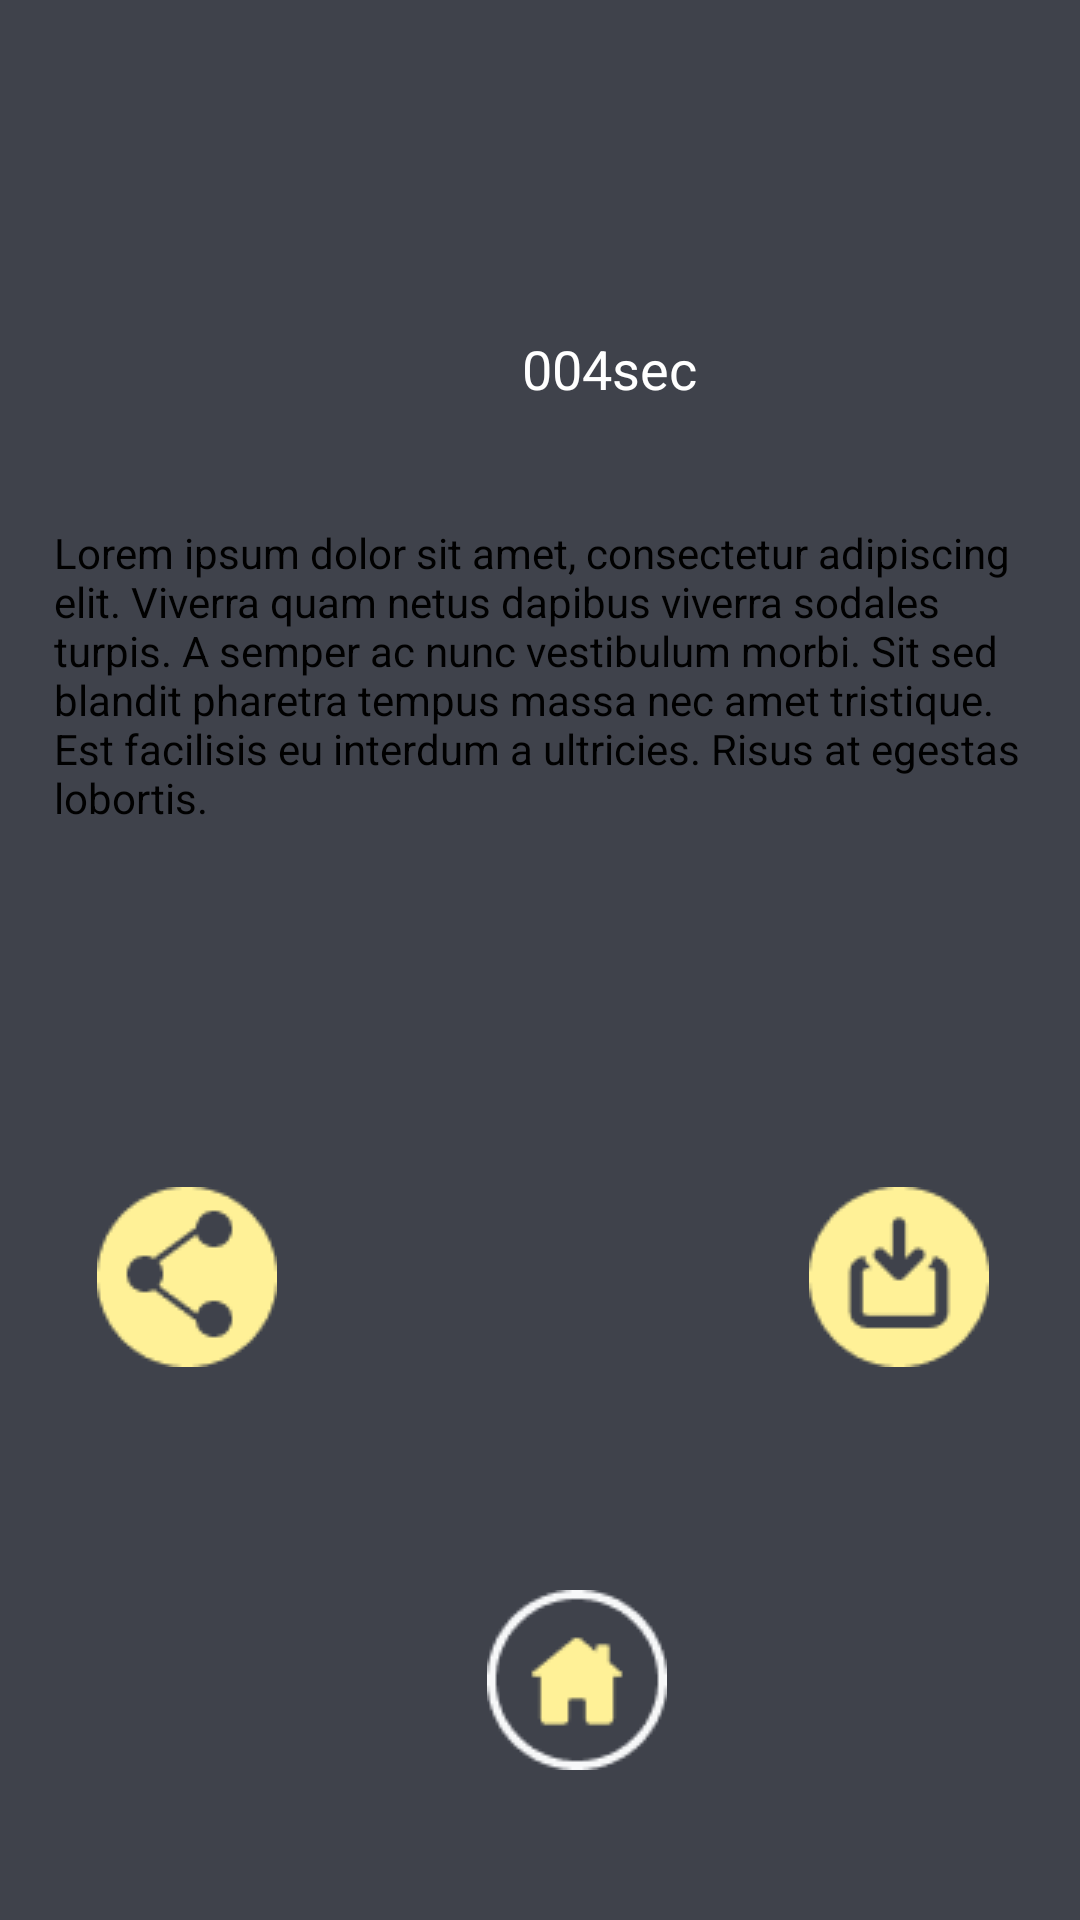

Where to tap for icons on this 1080x1920 app screen, as point (x, y):
download: point (899, 1277)
home: point (577, 1680)
share: point (187, 1277)
